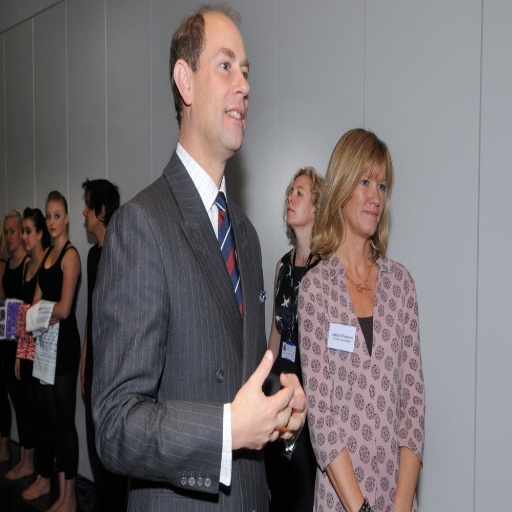hand: (223, 344, 297, 461), (279, 371, 308, 443), (79, 358, 86, 398), (12, 357, 20, 382), (48, 317, 59, 327)
